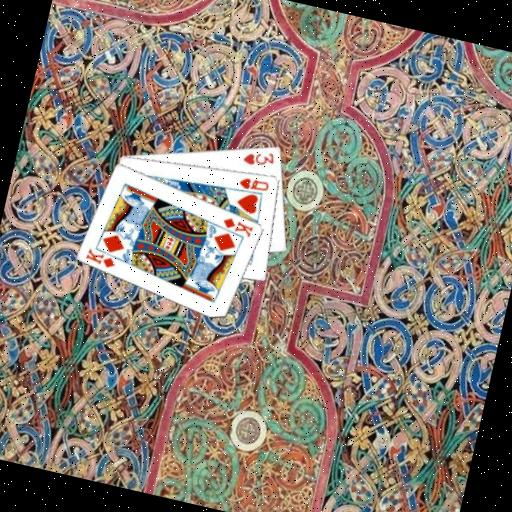3H: (239, 144, 278, 171)
KD: (219, 213, 257, 239), (82, 245, 119, 271)
QH: (235, 173, 272, 196)
